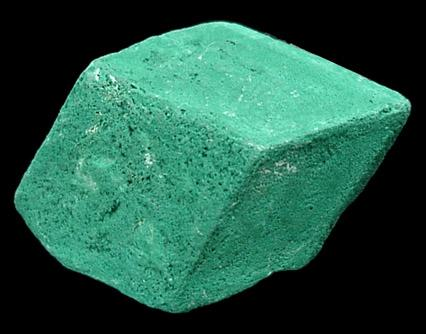calcite: (15, 22, 410, 312)
